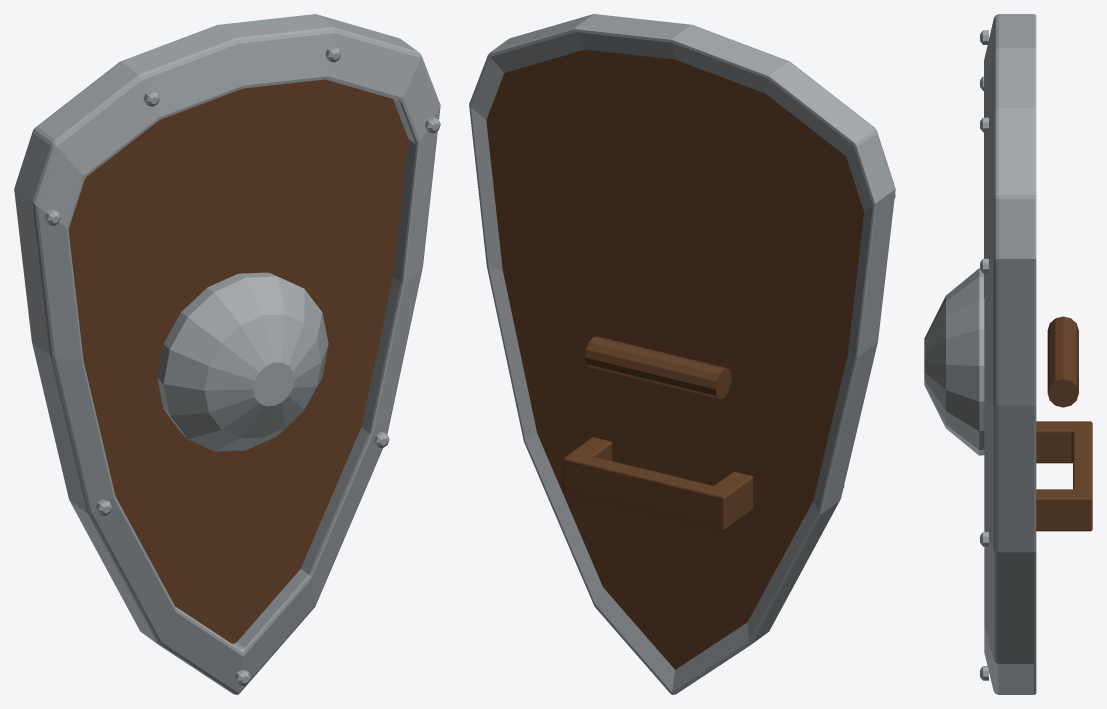
The model's file is WarriorShield.glb.
3 renders of one model, left to right at view 1: azimuth 30°, elevation 25°; view 2: azimuth 150°, elevation 25°; view 3: azimuth 270°, elevation 25°, orthographic.
Parts seen in each view (by area): view 1: Shield body, Reinforced rim, Central reinforcement; view 2: Shield body, Reinforced rim, Rear forearm strap, Rear hand grip; view 3: Reinforced rim, Central reinforcement, Rear forearm strap, Rear hand grip.
Boxes of the visible parts, left/top/right/bottom form: Shield body: left=68, top=79, right=408, bottom=643; Reinforced rim: left=14, top=14, right=440, bottom=694; Central reinforcement: left=157, top=272, right=328, bottom=451; Shield body: left=486, top=49, right=863, bottom=669; Reinforced rim: left=469, top=14, right=895, bottom=694; Rear forearm strap: left=563, top=437, right=753, bottom=530; Rear hand grip: left=585, top=336, right=731, bottom=398; Reinforced rim: left=984, top=14, right=1036, bottom=694; Central reinforcement: left=924, top=268, right=984, bottom=455; Rear forearm strap: left=1036, top=421, right=1092, bottom=531; Rear hand grip: left=1047, top=316, right=1078, bottom=407.
Size of the model in its own units: 0.2369 by 0.3649 by 0.086.
